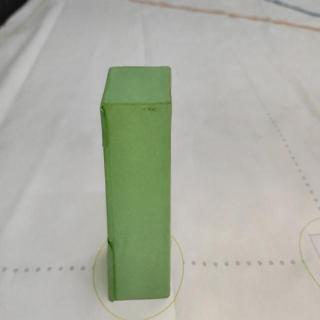greenbox: (97, 64, 175, 303)
